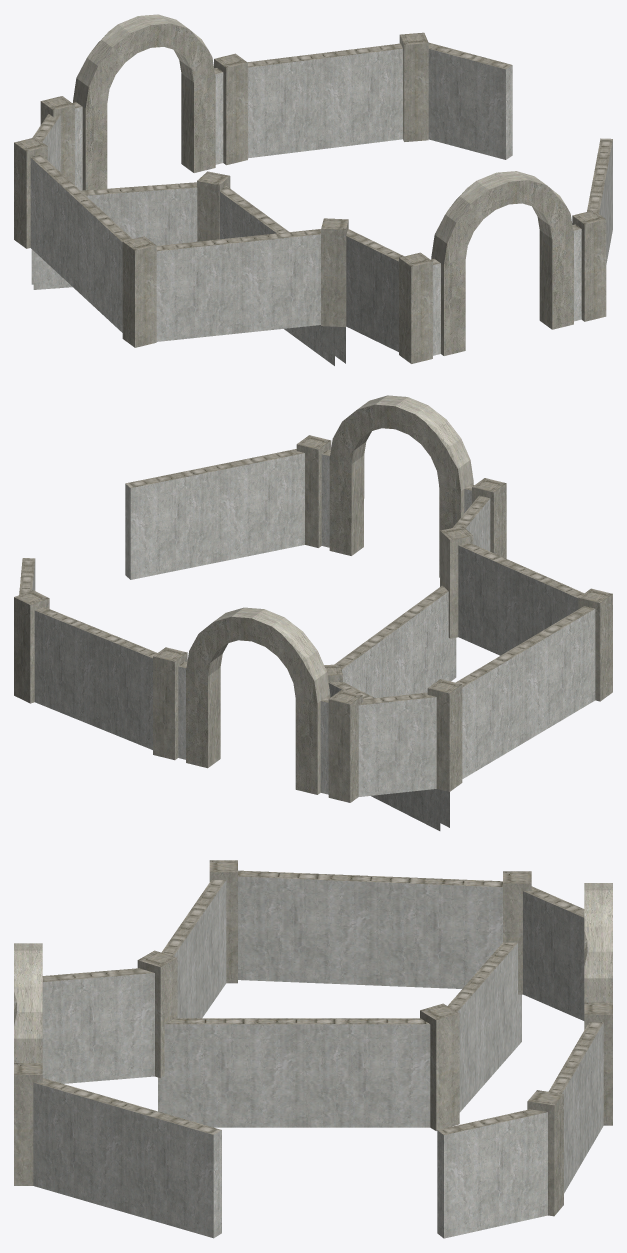
File: poi_corl_farm_32x32_s02_l0.fbx
The picture shows the model from 3 angles, top to bottom: view 1: azimuth 30°, elevation 25°; view 2: azimuth 150°, elevation 25°; view 3: azimuth 270°, elevation 25°; orthographic projection. The views are drawn at different scales.
Parts seen in each view (by area): view 1: mesh_node; view 2: mesh_node; view 3: mesh_node.
Part boxes in pixels (bbox=[...]): mesh_node: bbox=[14, 14, 612, 365]; mesh_node: bbox=[14, 395, 612, 830]; mesh_node: bbox=[14, 860, 612, 1238].
Size of the model in its own units: 22.18 by 9 by 21.
